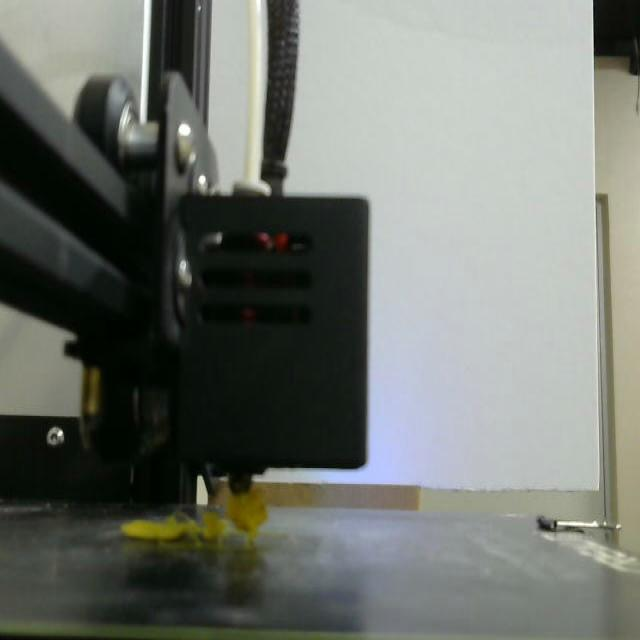spaghetti: (122, 512, 230, 541), (226, 488, 268, 541)
